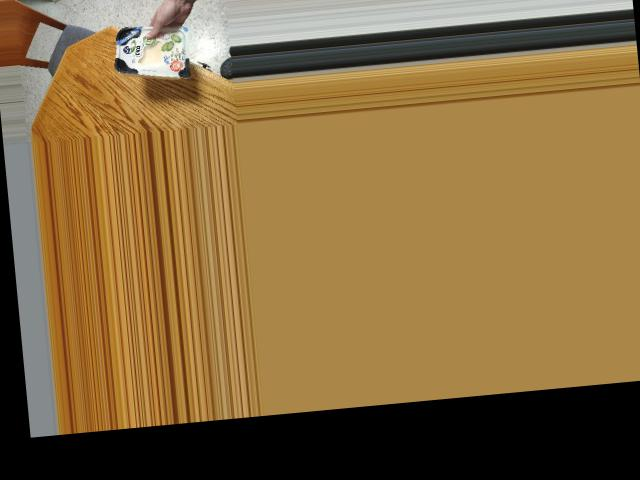cheese: (111, 13, 193, 83)
